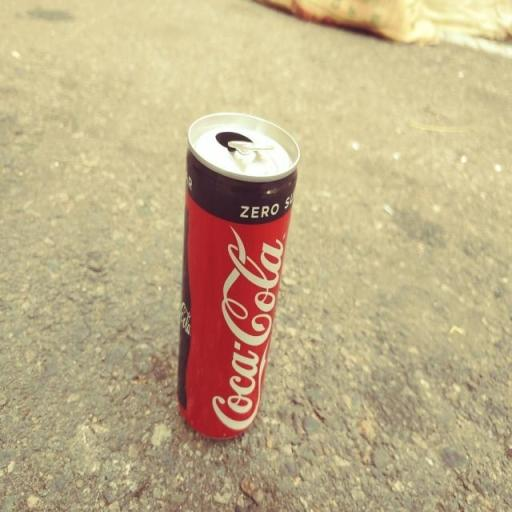metal: (165, 85, 308, 471)
